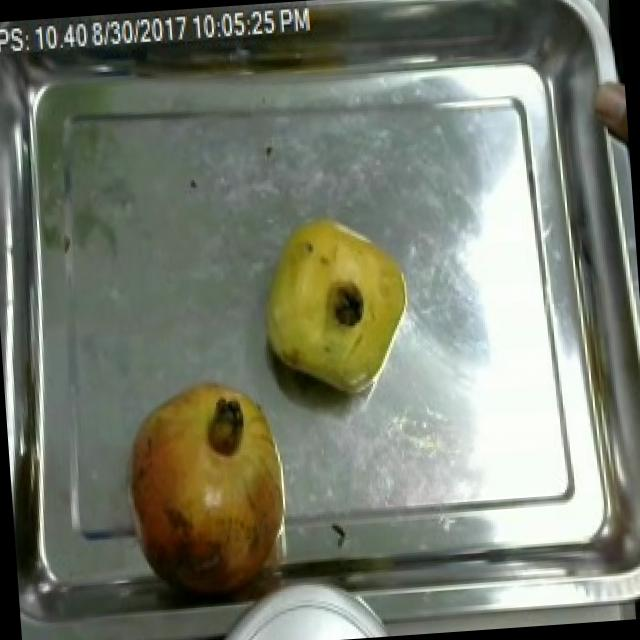fruit: (105, 362, 304, 610), (248, 202, 424, 406), (587, 65, 630, 164)
